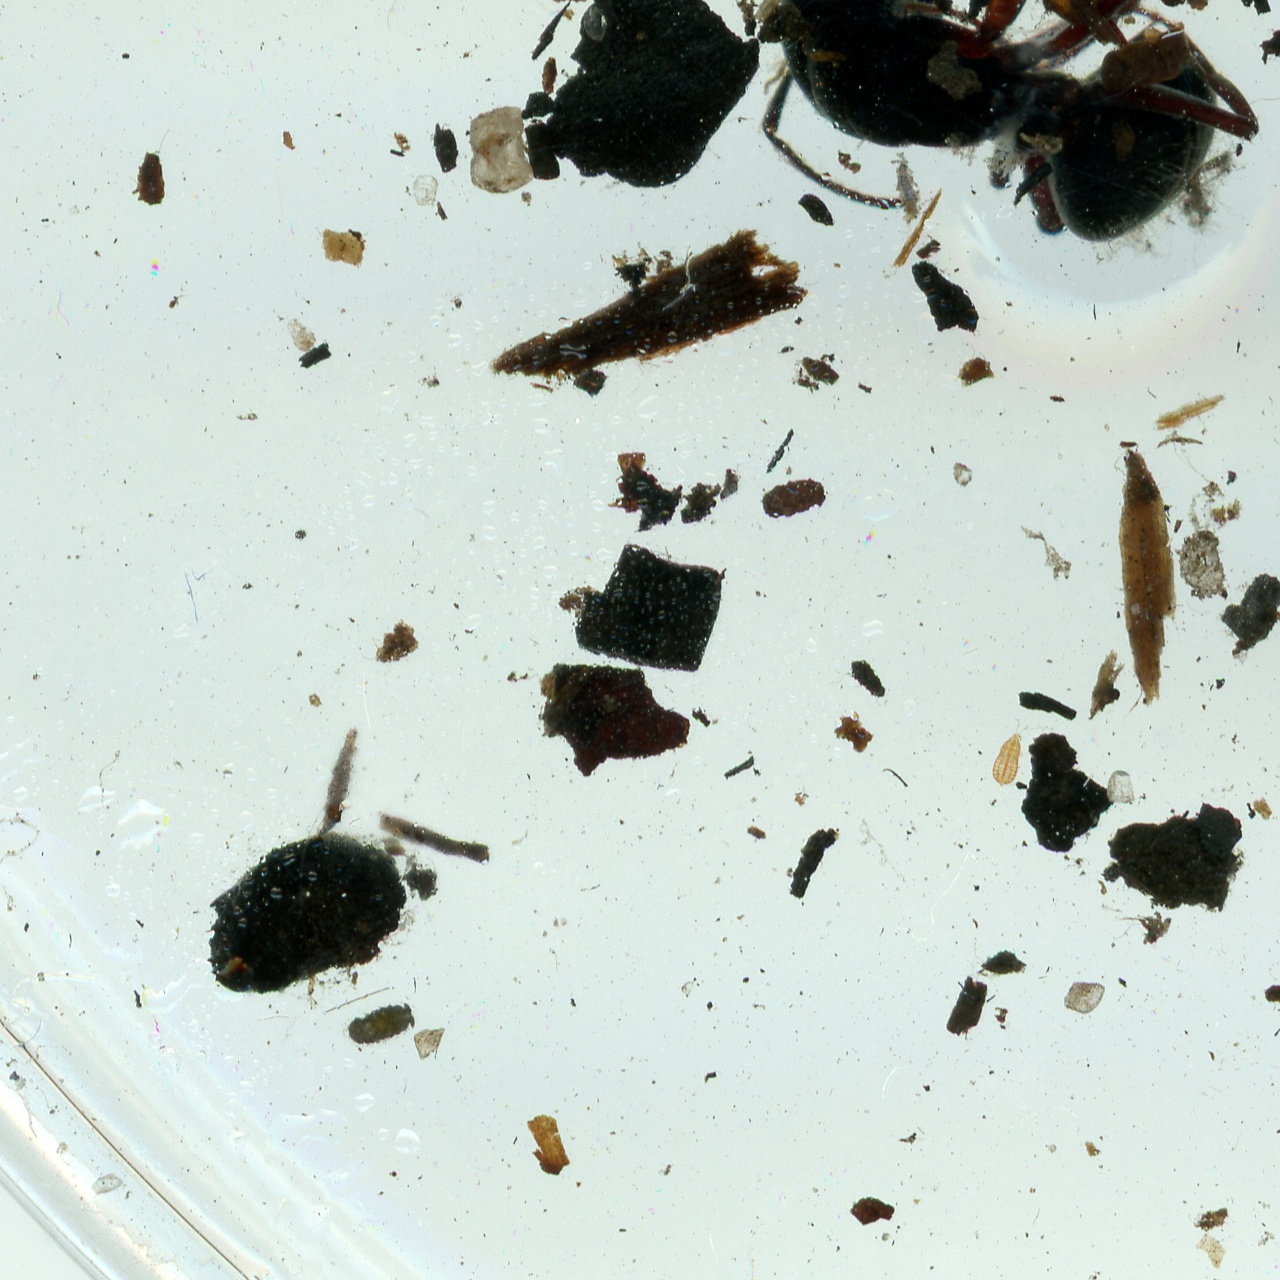arthropod: (715, 0, 1270, 249), (339, 993, 423, 1058), (889, 149, 936, 225), (987, 715, 1033, 790)
